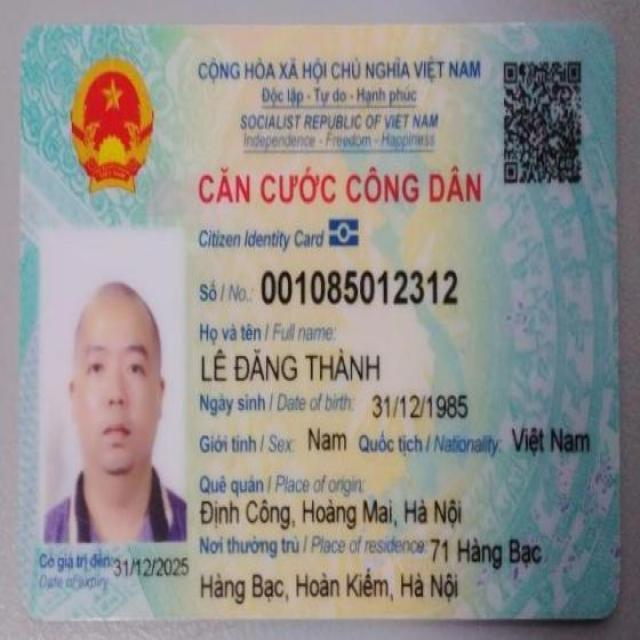current_place: (198, 566, 465, 605), (428, 530, 546, 570)
dob: (369, 387, 473, 422)
expire_date: (113, 554, 192, 584)
gender: (306, 423, 351, 457)
id: (258, 270, 461, 305)
name: (198, 344, 385, 388)
nationality: (505, 425, 595, 458)
origin_place: (198, 494, 464, 531)
